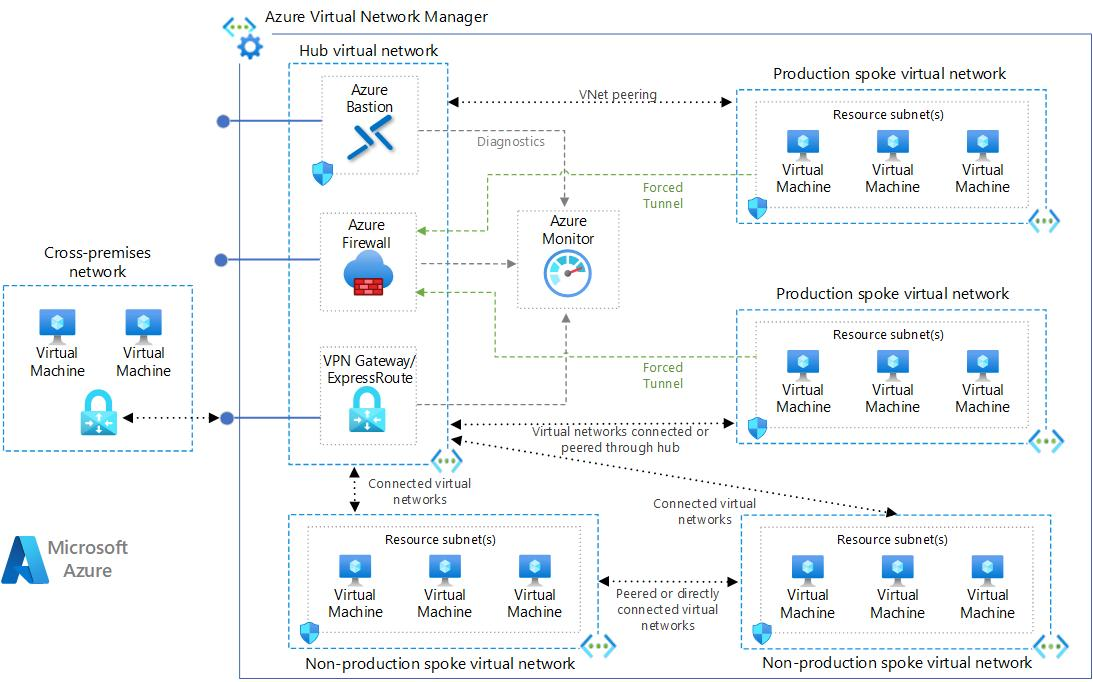Firewall: (336, 248, 399, 302)
Networking: (341, 383, 392, 436), (73, 386, 120, 443)
Remote Access: (347, 115, 401, 163)
VPC: (32, 300, 85, 349), (781, 541, 832, 589), (780, 342, 831, 384), (958, 553, 1015, 589), (869, 123, 918, 164), (328, 548, 377, 588), (418, 550, 468, 589), (957, 125, 1007, 164), (508, 549, 555, 589), (959, 346, 1009, 383), (777, 125, 828, 161), (872, 549, 917, 589), (122, 302, 163, 345), (870, 343, 913, 383)
Workflow Engine: (541, 245, 595, 302)
